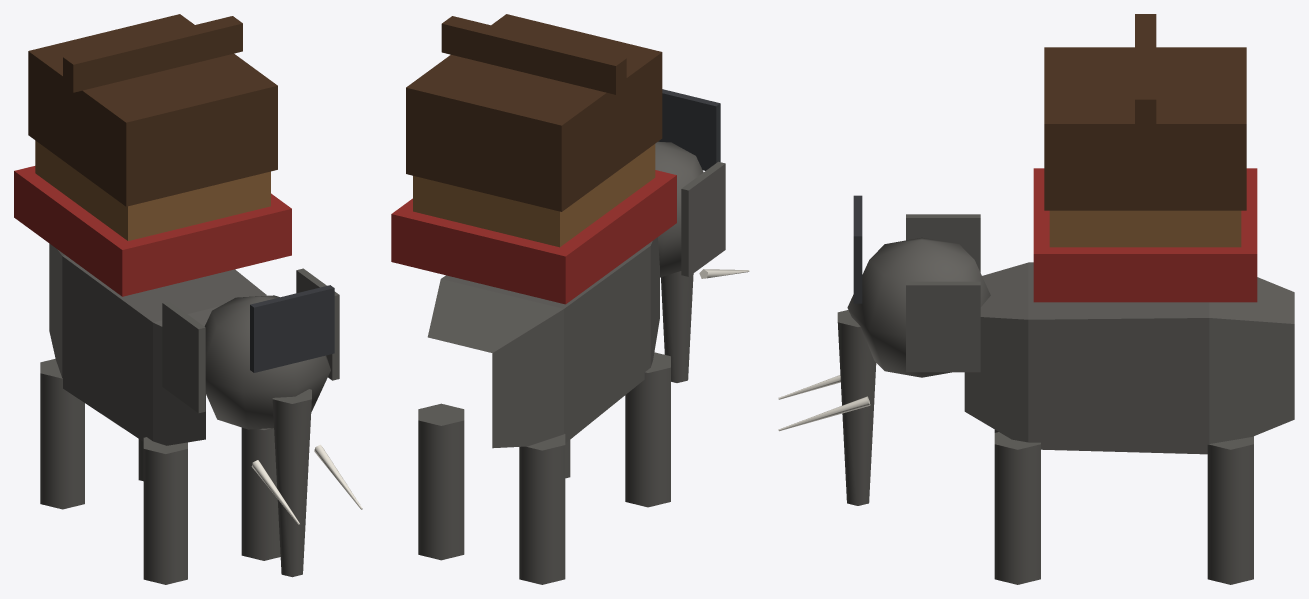
File: unit_mil_war_elephant_a03_lod2.glb
The picture shows the model from 3 angles, left to right: view 1: azimuth 30°, elevation 25°; view 2: azimuth 150°, elevation 25°; view 3: azimuth 270°, elevation 25°; orthographic projection. The views are drawn at different scales.
Visible parts, largest first — view 1: body; view 2: body; view 3: body.
Boxes of the visible parts, bbox=[...] form: body: bbox=[14, 14, 362, 584]; body: bbox=[391, 14, 749, 584]; body: bbox=[778, 14, 1294, 584].
Bounding box in the file's own units: 1.9 × 5.1 × 4.85.
